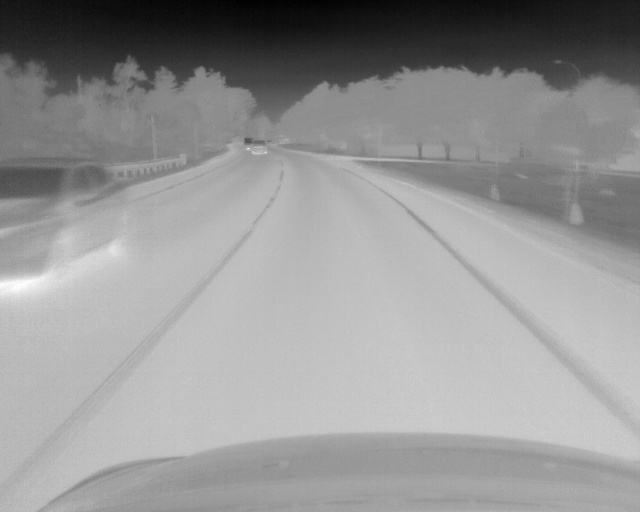car: (1, 156, 123, 284), (250, 139, 267, 155), (243, 137, 254, 151)
